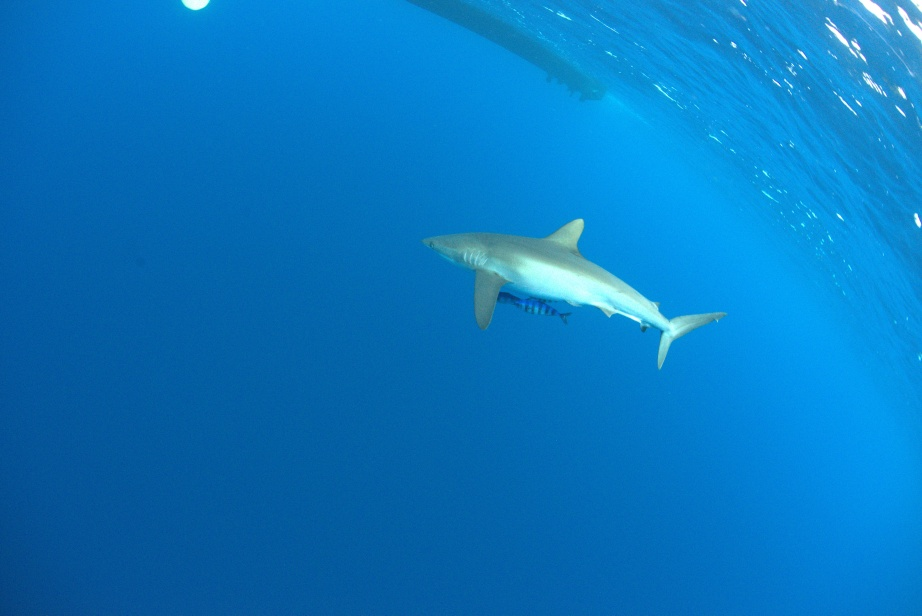Sedoso: (377, 199, 743, 383)
